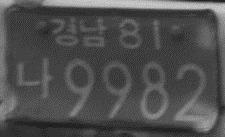1: (147, 17, 164, 51)
2: (173, 61, 211, 124)
8: (138, 60, 171, 121), (116, 16, 143, 50)
9: (62, 56, 97, 117), (100, 58, 132, 120)
경남_O: (49, 14, 107, 49)
나: (14, 55, 55, 100)
